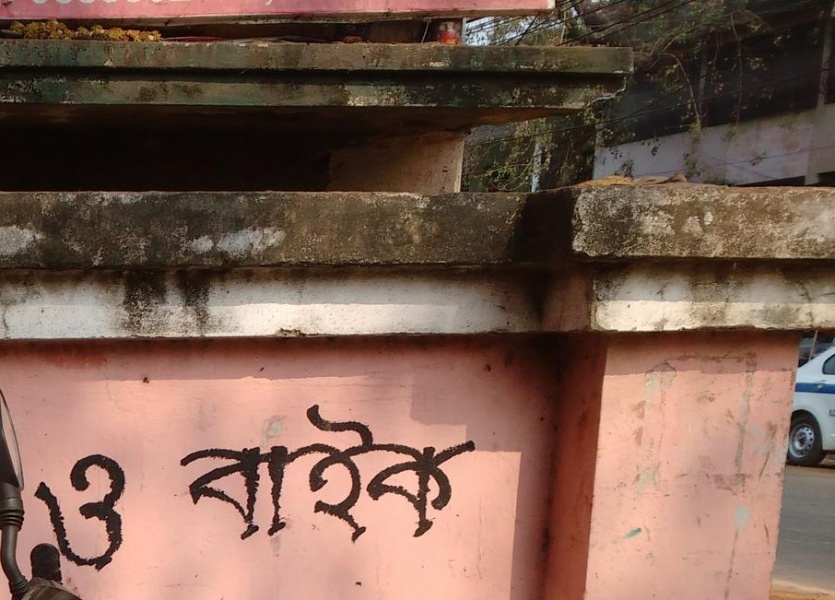text: (193, 402, 208, 542), (209, 402, 224, 542), (225, 402, 240, 542), (241, 402, 256, 542), (257, 402, 272, 542), (273, 402, 288, 542), (289, 402, 304, 542), (305, 402, 320, 542), (321, 402, 336, 542), (337, 402, 352, 542), (353, 402, 368, 542), (369, 402, 384, 542), (385, 402, 400, 542), (401, 402, 416, 542), (417, 402, 432, 542), (433, 402, 448, 542), (449, 402, 464, 542), (178, 402, 192, 542), (113, 451, 129, 573), (49, 451, 64, 573), (65, 451, 80, 573), (81, 451, 96, 573), (97, 451, 112, 573), (465, 402, 477, 542), (35, 451, 48, 573), (17, 1, 32, 13), (33, 1, 48, 13), (49, 1, 64, 13), (65, 1, 80, 13), (81, 1, 96, 13), (97, 1, 112, 13), (113, 1, 128, 13), (129, 1, 144, 13), (145, 1, 160, 13), (161, 1, 176, 13), (177, 1, 192, 13), (193, 1, 208, 13), (209, 1, 224, 13), (225, 1, 240, 13), (241, 1, 256, 13), (257, 1, 272, 13), (273, 1, 288, 13), (289, 1, 304, 13), (305, 1, 320, 13), (321, 1, 336, 13), (337, 1, 352, 13), (353, 1, 368, 13), (6, 1, 16, 13)
